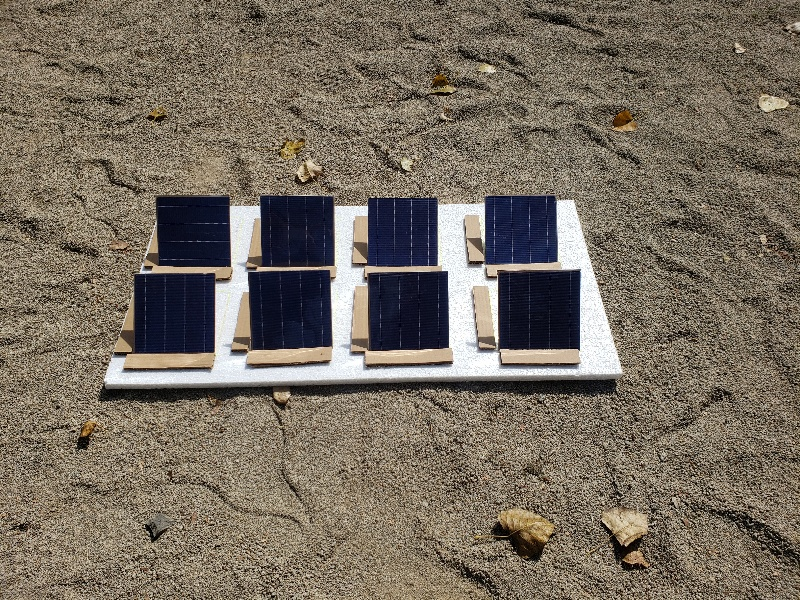clean: (363, 269, 458, 353), (493, 271, 586, 351), (245, 270, 332, 349), (152, 196, 237, 269), (134, 276, 217, 350), (259, 198, 336, 269), (487, 194, 561, 266), (368, 197, 442, 267)
